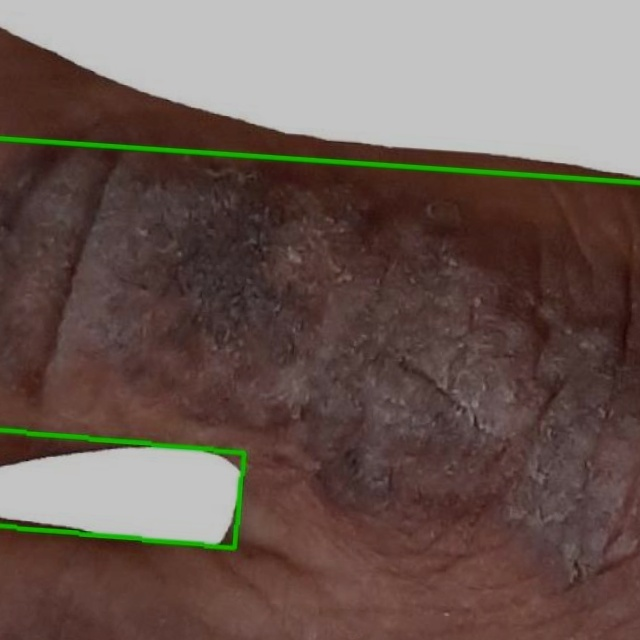Contact Dermatitis: (0, 0, 639, 182), (0, 430, 244, 549)
